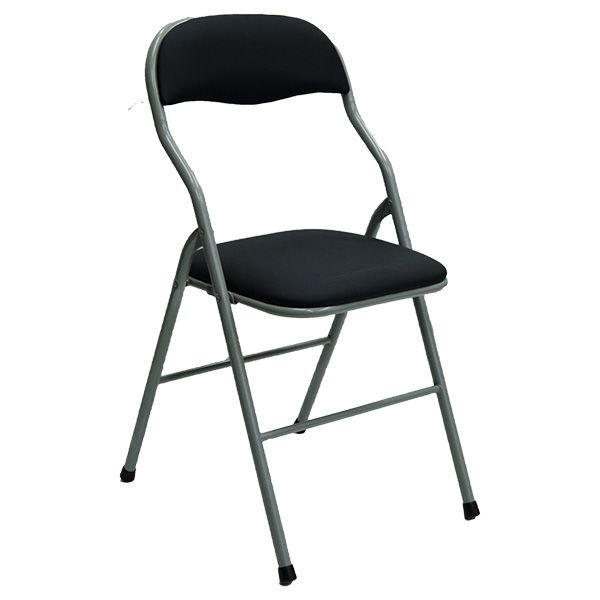seat: (103, 4, 507, 576)
